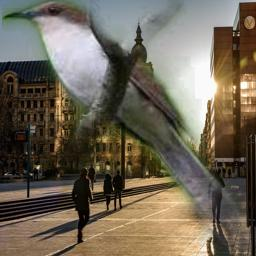Cuckoo: (2, 0, 252, 256)
